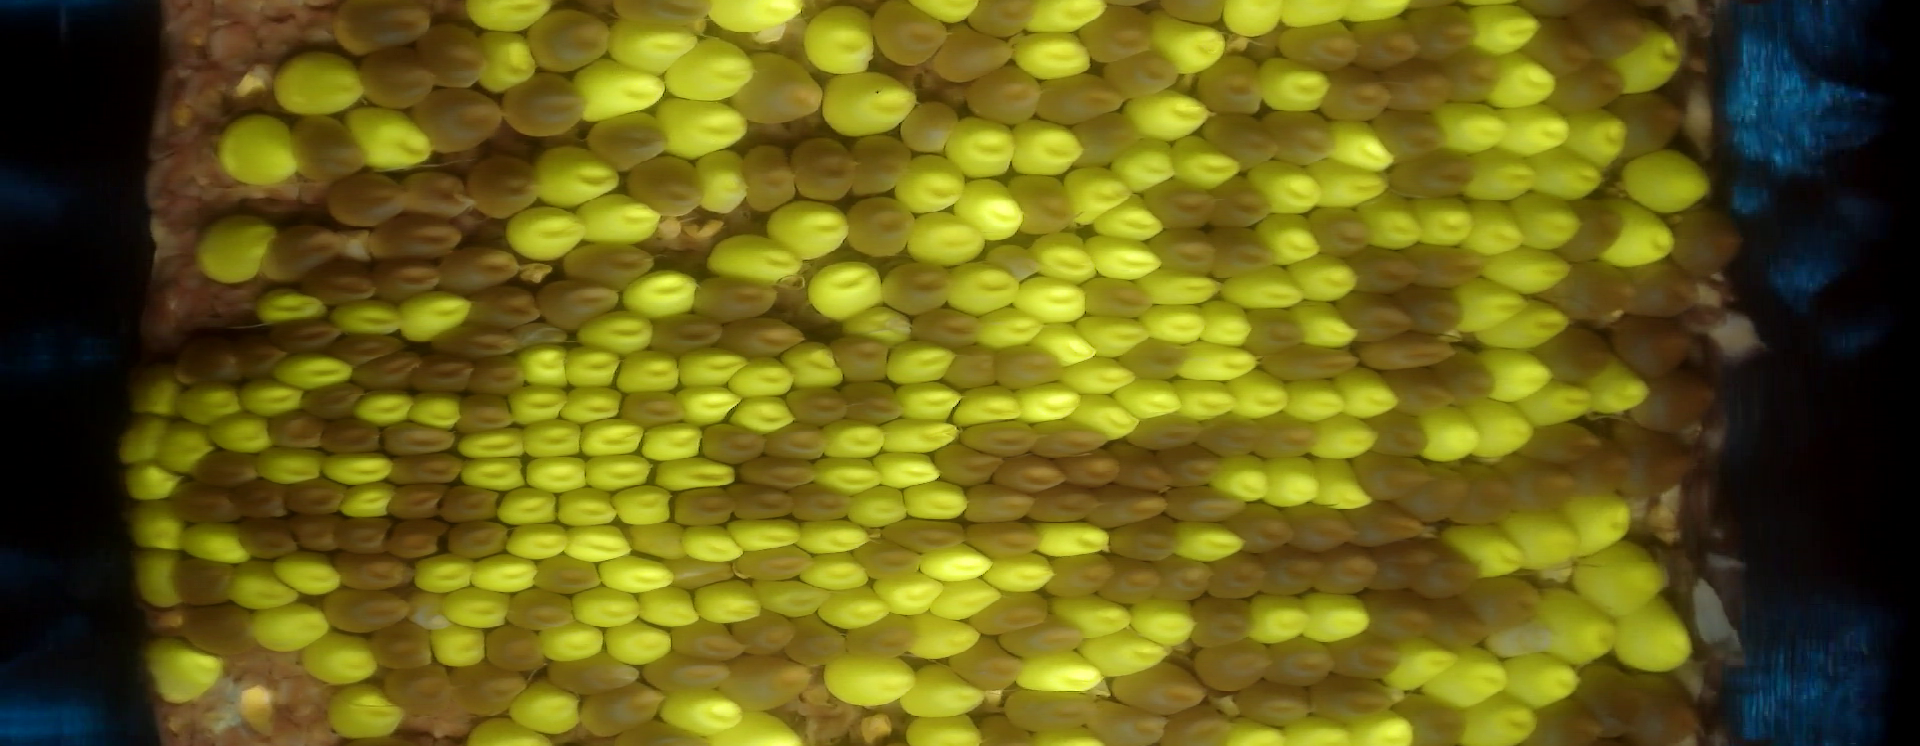fluorescent: (1528, 583, 1621, 666), (1573, 544, 1671, 620), (269, 48, 367, 119), (1609, 598, 1696, 676), (820, 70, 920, 137), (669, 34, 757, 107), (217, 111, 298, 190), (573, 56, 669, 122), (345, 104, 433, 175), (1622, 148, 1716, 212), (533, 143, 618, 211), (655, 96, 751, 156), (800, 4, 877, 76), (604, 16, 700, 73), (197, 213, 276, 283), (142, 638, 224, 704), (1603, 196, 1678, 267), (1142, 11, 1226, 75), (824, 650, 920, 706), (298, 627, 382, 688), (577, 192, 666, 250), (765, 198, 851, 258), (1242, 156, 1325, 217), (1498, 510, 1584, 567), (1445, 519, 1529, 578), (704, 233, 804, 282), (1476, 299, 1571, 350), (891, 153, 970, 214), (902, 209, 986, 267), (1618, 23, 1682, 97), (1258, 55, 1333, 118), (1124, 89, 1215, 141), (1009, 118, 1086, 178), (807, 258, 884, 318), (471, 29, 540, 97), (1482, 246, 1576, 295), (956, 176, 1026, 243), (507, 205, 587, 262), (1433, 644, 1509, 704), (1466, 396, 1536, 461), (944, 116, 1015, 180), (508, 677, 583, 737), (323, 684, 404, 739), (571, 306, 655, 359), (1509, 194, 1584, 251), (1464, 2, 1547, 55), (1476, 345, 1554, 401), (621, 269, 700, 323), (1561, 490, 1631, 551), (1502, 653, 1580, 708), (909, 661, 986, 717), (1488, 54, 1560, 113), (1583, 352, 1651, 414), (1013, 29, 1092, 82), (1433, 98, 1509, 153), (1079, 628, 1171, 674), (1452, 276, 1524, 333), (394, 292, 471, 345), (218, 560, 305, 608), (1084, 233, 1162, 285), (1358, 192, 1427, 251), (252, 601, 331, 653), (1058, 165, 1131, 219), (1333, 361, 1402, 419), (1071, 312, 1151, 361), (1458, 695, 1538, 744), (1329, 118, 1397, 174), (1172, 137, 1242, 192), (1389, 635, 1458, 690), (1223, 265, 1302, 314), (1500, 102, 1572, 154), (1014, 650, 1107, 691), (1463, 196, 1524, 257), (1464, 153, 1536, 206), (1417, 404, 1482, 462), (1528, 149, 1604, 198), (662, 688, 744, 734), (950, 260, 1019, 314), (1303, 590, 1371, 644), (1049, 592, 1135, 635), (1569, 111, 1631, 170), (694, 149, 752, 213), (904, 614, 984, 659), (1258, 211, 1322, 267), (778, 339, 847, 391), (600, 619, 675, 666), (1128, 598, 1199, 648), (1031, 229, 1097, 283), (1292, 299, 1360, 350), (268, 549, 342, 597), (1291, 250, 1358, 301), (598, 550, 673, 595), (1018, 274, 1087, 323), (883, 339, 956, 386), (1524, 382, 1598, 429), (1226, 367, 1291, 420), (1100, 195, 1166, 246), (649, 454, 738, 492), (1029, 518, 1112, 559), (1313, 159, 1391, 202), (1113, 138, 1178, 190), (175, 381, 246, 428), (612, 349, 683, 396), (1140, 269, 1226, 307), (331, 295, 404, 339), (1177, 345, 1265, 382), (1414, 195, 1476, 247), (1249, 592, 1310, 644), (571, 583, 642, 628), (876, 572, 944, 619), (1311, 457, 1371, 510), (129, 499, 189, 551), (156, 423, 217, 474), (1173, 519, 1247, 562), (975, 307, 1046, 352), (470, 552, 541, 597), (1283, 374, 1347, 423), (675, 348, 749, 390), (1073, 393, 1141, 439), (1033, 320, 1100, 366), (182, 521, 252, 565), (255, 285, 328, 327), (1209, 454, 1271, 503), (500, 521, 573, 562), (236, 374, 307, 416), (1062, 356, 1139, 396), (612, 481, 677, 528), (920, 543, 994, 583), (877, 418, 961, 453), (954, 382, 1020, 428), (1315, 416, 1381, 462), (680, 522, 746, 567), (988, 551, 1054, 597), (691, 579, 760, 622), (634, 586, 704, 628), (253, 443, 329, 483), (797, 552, 871, 593), (133, 551, 186, 608), (131, 369, 189, 420), (271, 354, 354, 390), (754, 576, 823, 619), (842, 304, 917, 343), (440, 588, 512, 628), (820, 416, 887, 461), (351, 386, 419, 429), (1015, 380, 1082, 423), (579, 416, 647, 459), (818, 590, 891, 630), (813, 454, 884, 495), (904, 710, 984, 746), (429, 620, 489, 668), (207, 412, 272, 456), (1265, 454, 1318, 508), (797, 516, 869, 555), (491, 486, 561, 527), (1109, 379, 1183, 416), (321, 450, 394, 488), (730, 356, 796, 398), (411, 550, 478, 592), (520, 419, 584, 462), (538, 624, 605, 664), (730, 516, 803, 552), (640, 419, 703, 462), (902, 480, 969, 521), (457, 425, 531, 461), (457, 456, 531, 491), (844, 488, 907, 529), (553, 488, 621, 527), (936, 579, 1003, 619), (114, 416, 167, 465), (1198, 298, 1251, 345), (675, 385, 740, 424), (408, 390, 467, 432), (563, 527, 633, 562), (527, 454, 591, 492), (518, 344, 571, 391), (562, 348, 621, 390), (1141, 303, 1205, 341), (733, 396, 797, 434), (587, 454, 651, 491), (876, 451, 940, 488), (1179, 379, 1238, 419), (898, 379, 958, 418), (563, 386, 624, 424), (122, 464, 184, 502), (507, 386, 571, 420), (340, 480, 392, 521)
nonfluorescent: (1610, 418, 1703, 495), (736, 50, 823, 127), (1476, 578, 1556, 660), (410, 86, 503, 153), (523, 7, 610, 71), (1665, 201, 1745, 269), (1631, 668, 1704, 741), (291, 114, 369, 183), (579, 109, 671, 167), (1633, 369, 1713, 435), (729, 650, 813, 712), (1614, 314, 1693, 379), (1549, 261, 1638, 318), (789, 135, 862, 205), (1609, 87, 1684, 156), (467, 156, 545, 219), (414, 22, 487, 89), (871, 2, 947, 67), (500, 71, 578, 134), (334, 1, 431, 51), (626, 156, 707, 216), (1109, 661, 1204, 713), (358, 47, 436, 108), (562, 241, 658, 292), (1578, 666, 1646, 737), (1202, 111, 1283, 170), (962, 64, 1044, 120), (1562, 196, 1630, 265), (846, 134, 917, 198), (938, 23, 1018, 81), (1386, 148, 1473, 201), (844, 195, 915, 258), (1009, 171, 1081, 234), (573, 684, 665, 733), (740, 143, 804, 212), (1036, 72, 1124, 122), (323, 171, 405, 225), (1450, 461, 1520, 523), (1191, 639, 1272, 693), (691, 274, 781, 322), (1342, 496, 1428, 546), (1141, 176, 1221, 230), (175, 601, 255, 655), (321, 587, 413, 633), (452, 661, 529, 717), (1545, 62, 1624, 116), (1338, 290, 1414, 345), (1196, 54, 1267, 113), (1505, 454, 1576, 513), (1409, 241, 1487, 295), (1079, 4, 1152, 60), (1547, 323, 1613, 386), (1367, 107, 1449, 157), (383, 664, 458, 719), (1521, 16, 1589, 76), (1311, 676, 1391, 728), (1349, 450, 1433, 499), (1577, 1, 1644, 61), (535, 281, 620, 328), (1002, 687, 1098, 729), (1071, 111, 1146, 165), (394, 170, 476, 219), (1223, 503, 1299, 556), (1411, 4, 1477, 64), (1373, 60, 1450, 111), (1633, 257, 1700, 317), (1267, 108, 1335, 167), (1358, 334, 1466, 371), (262, 225, 340, 276), (1391, 695, 1469, 745), (1286, 501, 1360, 554), (951, 637, 1026, 690), (547, 650, 640, 692), (1304, 203, 1373, 260), (1351, 17, 1420, 72), (640, 653, 730, 696), (1315, 70, 1391, 120), (365, 222, 465, 260), (1104, 440, 1177, 492), (1349, 244, 1420, 296), (971, 592, 1051, 638), (369, 619, 438, 671), (1407, 465, 1471, 523), (436, 246, 517, 292), (1262, 344, 1362, 381), (882, 258, 949, 312), (1270, 638, 1342, 688), (467, 282, 542, 330), (1162, 483, 1247, 526), (1281, 24, 1356, 72), (1210, 228, 1276, 282), (1398, 285, 1460, 343), (883, 516, 972, 555), (991, 451, 1068, 496), (1087, 701, 1164, 746), (1424, 543, 1482, 603), (1367, 590, 1430, 644), (1202, 550, 1269, 601), (171, 556, 239, 606), (851, 611, 918, 661), (829, 332, 891, 386), (1092, 483, 1171, 526), (1149, 225, 1213, 277), (1367, 409, 1431, 461), (171, 478, 238, 528), (666, 619, 746, 660), (1442, 45, 1502, 100), (718, 318, 804, 356), (733, 454, 820, 492), (171, 338, 239, 387), (373, 420, 463, 457), (1569, 445, 1633, 495), (962, 418, 1038, 461), (647, 311, 720, 355), (962, 481, 1036, 526), (1097, 51, 1177, 92), (1236, 681, 1313, 723), (999, 622, 1084, 660), (1319, 548, 1378, 601), (841, 379, 902, 430), (1033, 419, 1107, 462), (931, 443, 1004, 486), (672, 481, 740, 528), (1335, 635, 1402, 681), (482, 622, 546, 671), (1191, 601, 1255, 650), (965, 518, 1040, 560), (1381, 367, 1450, 413), (508, 587, 577, 632), (852, 539, 924, 582), (789, 612, 847, 665), (942, 343, 1002, 394), (1258, 414, 1324, 461), (900, 99, 961, 149), (383, 453, 473, 488), (305, 262, 378, 304), (336, 552, 413, 592), (762, 420, 828, 465), (376, 260, 446, 303), (782, 385, 850, 429), (533, 551, 604, 593), (1051, 551, 1116, 597), (1523, 423, 1600, 461), (1477, 576, 1538, 624), (1109, 519, 1176, 563), (1431, 597, 1487, 649), (1438, 352, 1494, 403), (1131, 413, 1202, 453), (1261, 549, 1321, 597), (430, 327, 519, 359), (358, 350, 424, 393), (733, 546, 816, 581), (1194, 413, 1258, 457), (1120, 337, 1188, 379), (408, 355, 475, 397), (436, 480, 503, 522), (266, 407, 326, 453), (912, 306, 983, 345), (789, 480, 853, 523), (729, 481, 797, 522), (1376, 538, 1431, 588), (1081, 277, 1147, 318), (298, 380, 367, 419), (1162, 706, 1229, 746), (702, 424, 767, 465), (1160, 443, 1221, 488), (994, 344, 1060, 385), (192, 450, 264, 486), (1245, 306, 1299, 355), (1103, 555, 1157, 604), (1157, 554, 1212, 601), (271, 318, 344, 354), (234, 477, 291, 522), (1033, 483, 1097, 523), (236, 521, 300, 561), (456, 391, 516, 434), (1218, 183, 1273, 229), (665, 554, 740, 588), (336, 513, 392, 559), (383, 518, 446, 559), (742, 608, 793, 657), (442, 523, 509, 560), (320, 418, 384, 456), (284, 477, 344, 517), (329, 333, 408, 364), (617, 391, 687, 425), (467, 359, 529, 396), (1060, 450, 1119, 488), (386, 481, 444, 519), (988, 243, 1044, 281), (235, 334, 280, 380), (293, 514, 340, 556)
